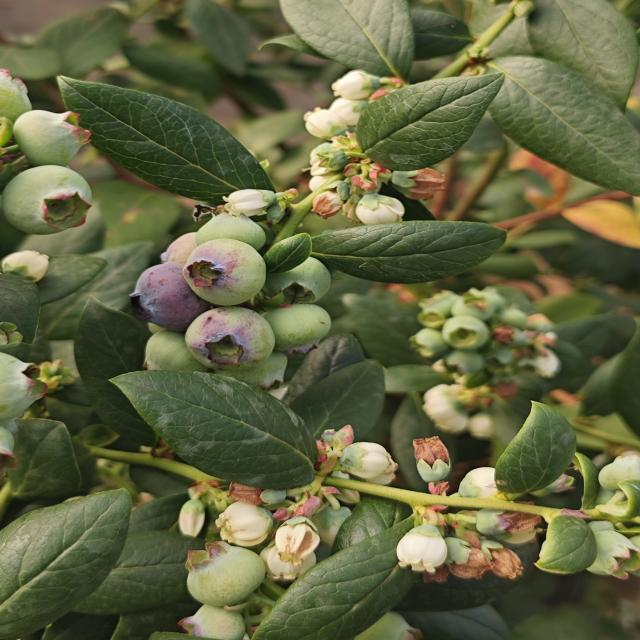ripe: (128, 261, 210, 333)
